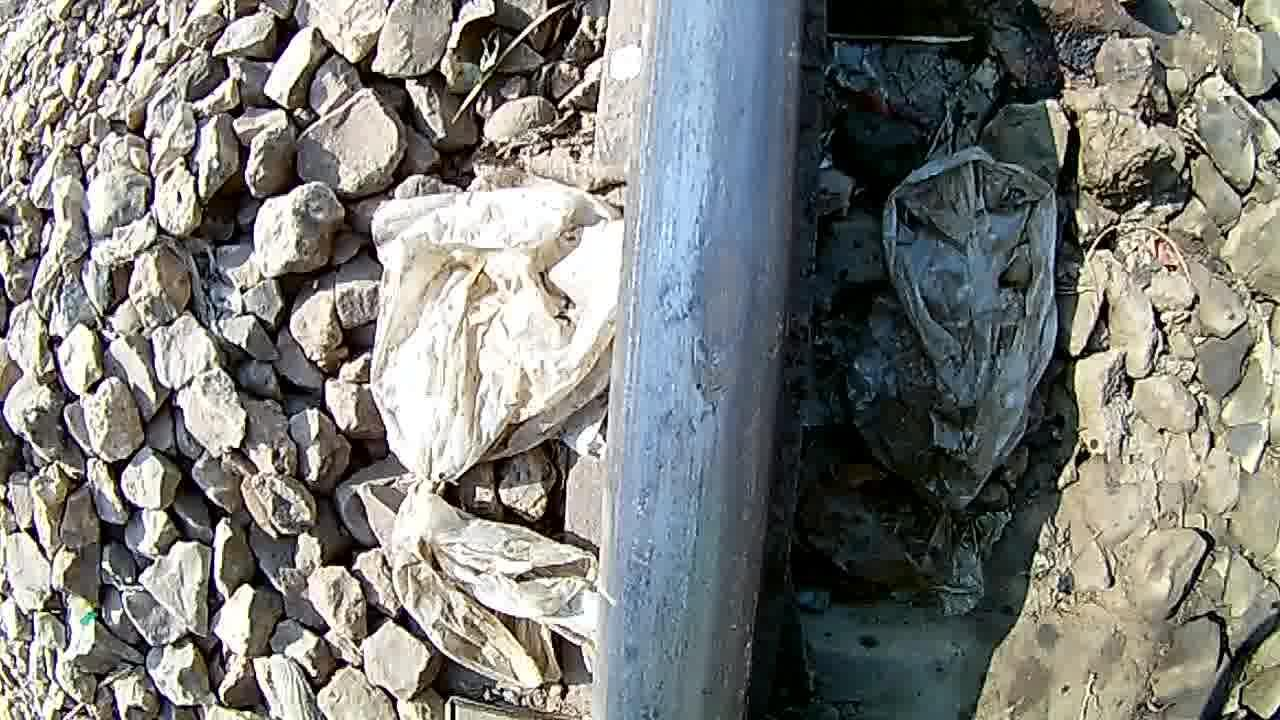bolt_missing: (598, 166, 792, 720)
